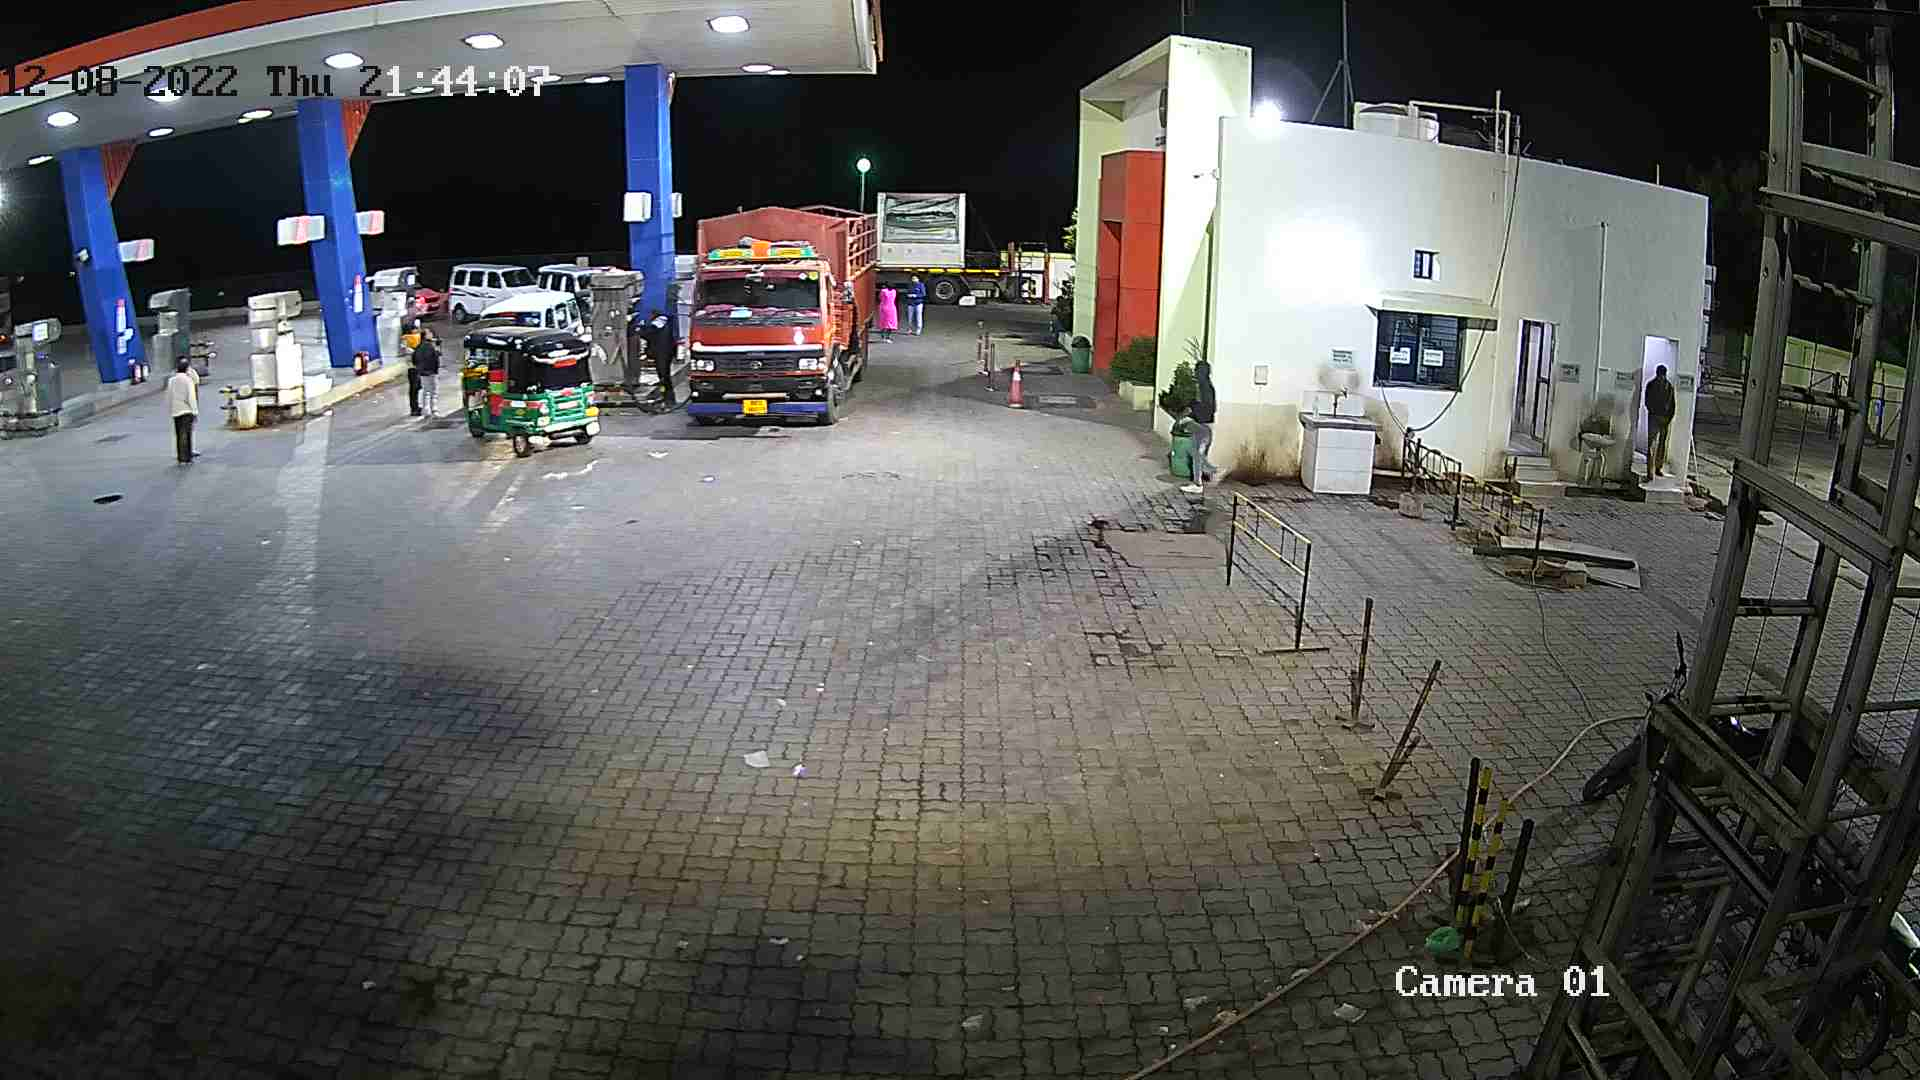Auto: (450, 313, 607, 455)
Car: (447, 281, 601, 361), (433, 257, 545, 334), (529, 253, 615, 323), (385, 266, 458, 339)
HMV: (665, 187, 887, 443), (855, 182, 1054, 309)
